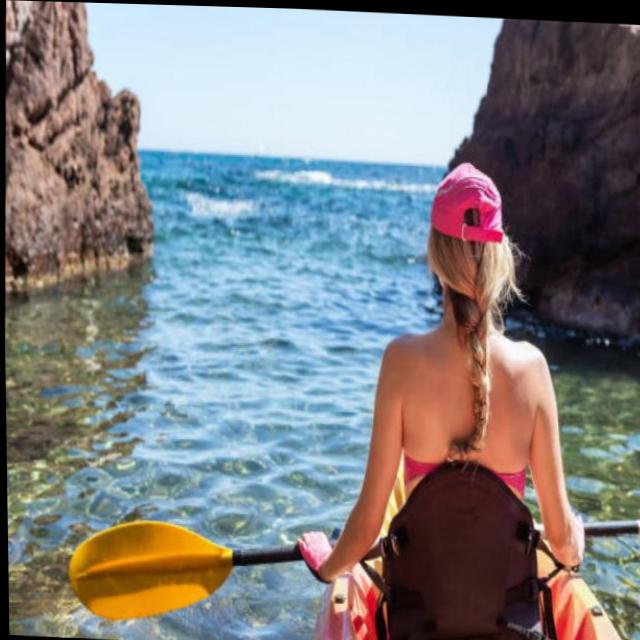no helmet: (414, 163, 522, 321)
